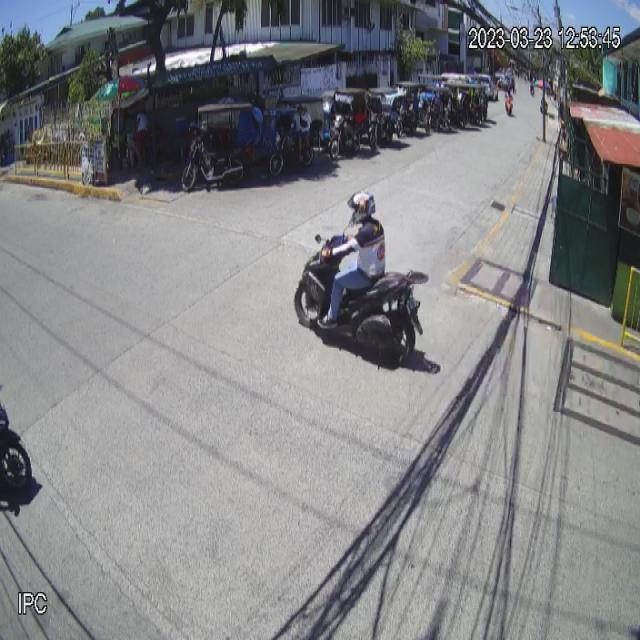Motorcycle: (295, 218, 430, 365)
